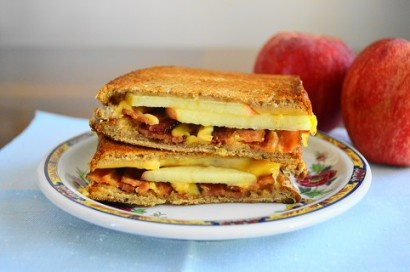background: (51, 12, 262, 87)
